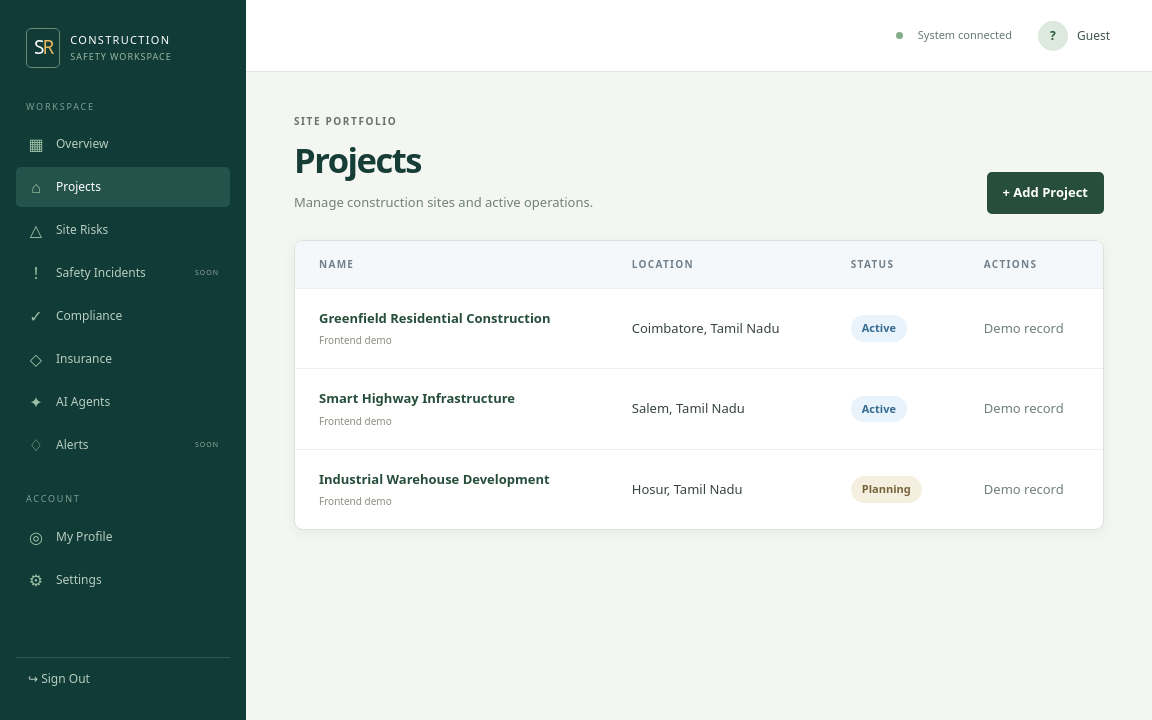
Scenario: workspace dashboard › opens the project form and validates required fields
What coordinates should you click on to do the following:
click the button "+ Add Project"
I would click on:
 (1045, 193)
Its box is [986, 172, 1104, 214].
(page scrolled)
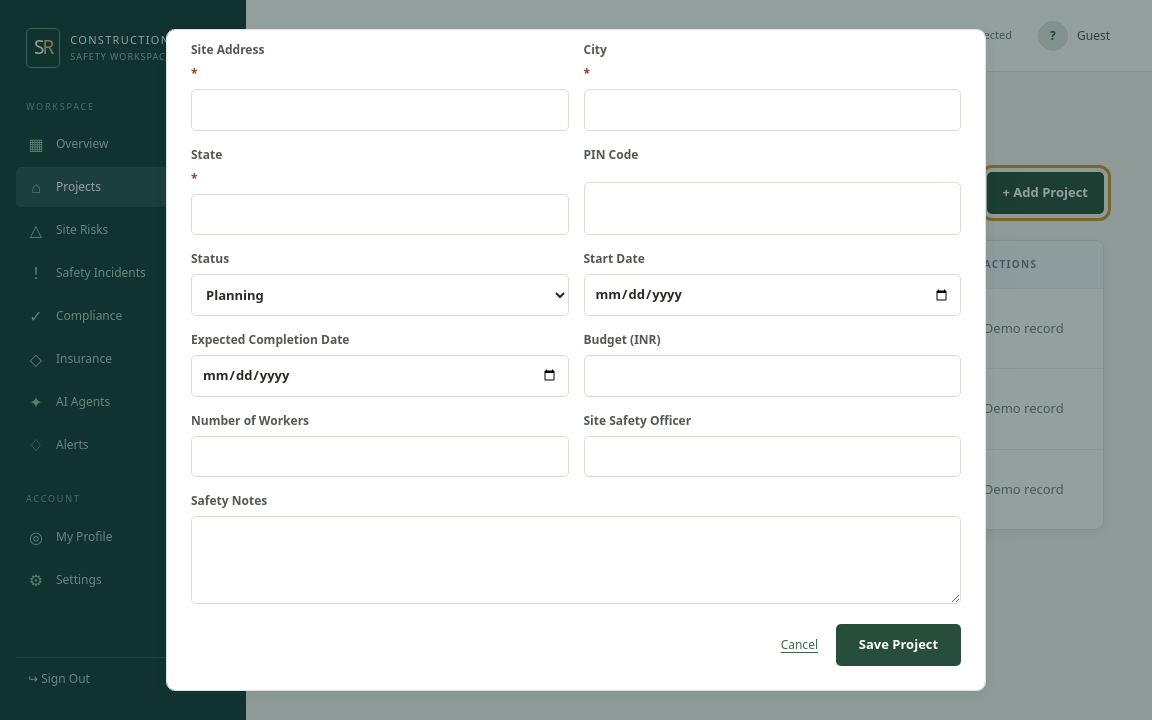
expect the dialog "Add project" is shown: met
What coordinates should you click on to do the following:
click the button "Save Project"
I would click on:
 (898, 645)
Its box is [836, 624, 961, 666].
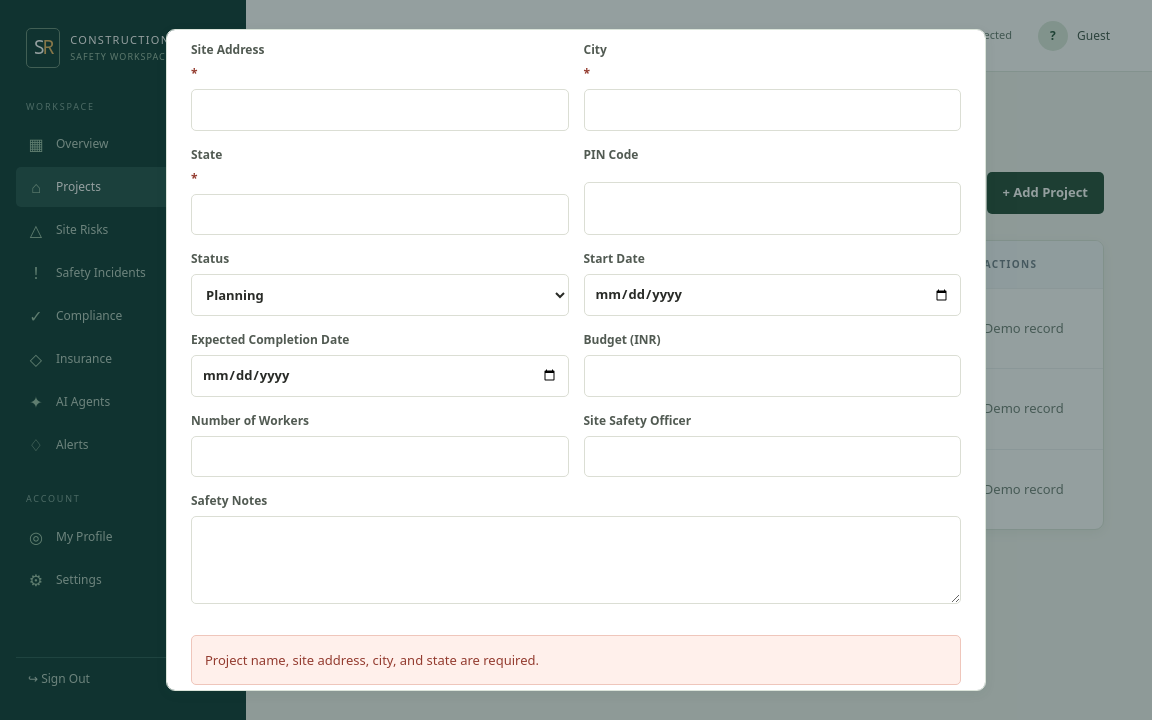
expect the message reads "Project name, site address, city, and state are required.": met, box [205, 651, 539, 669]
